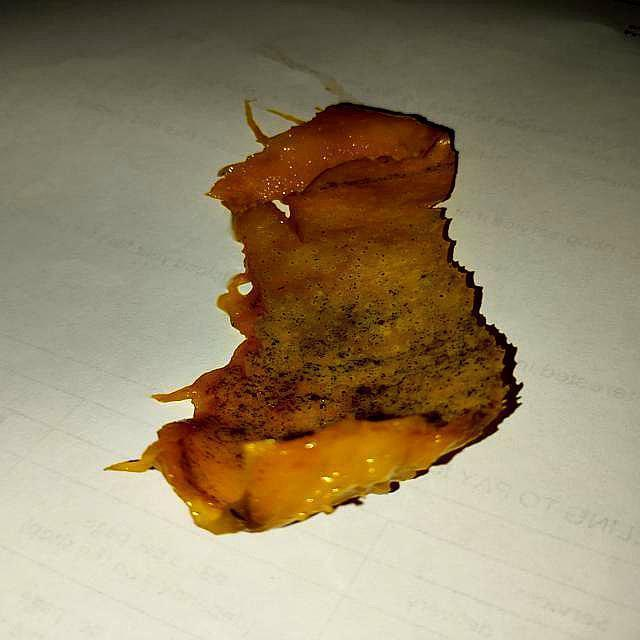Biodegradable: (159, 105, 521, 541)
